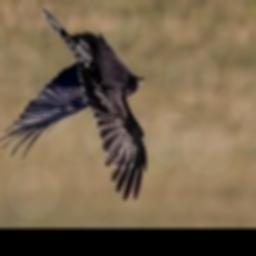Crow: (0, 10, 147, 202)
